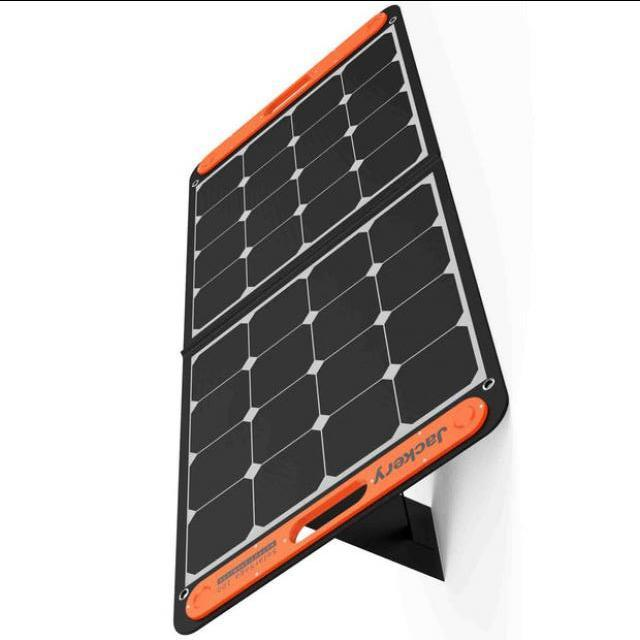no faulty: (178, 20, 483, 592)
